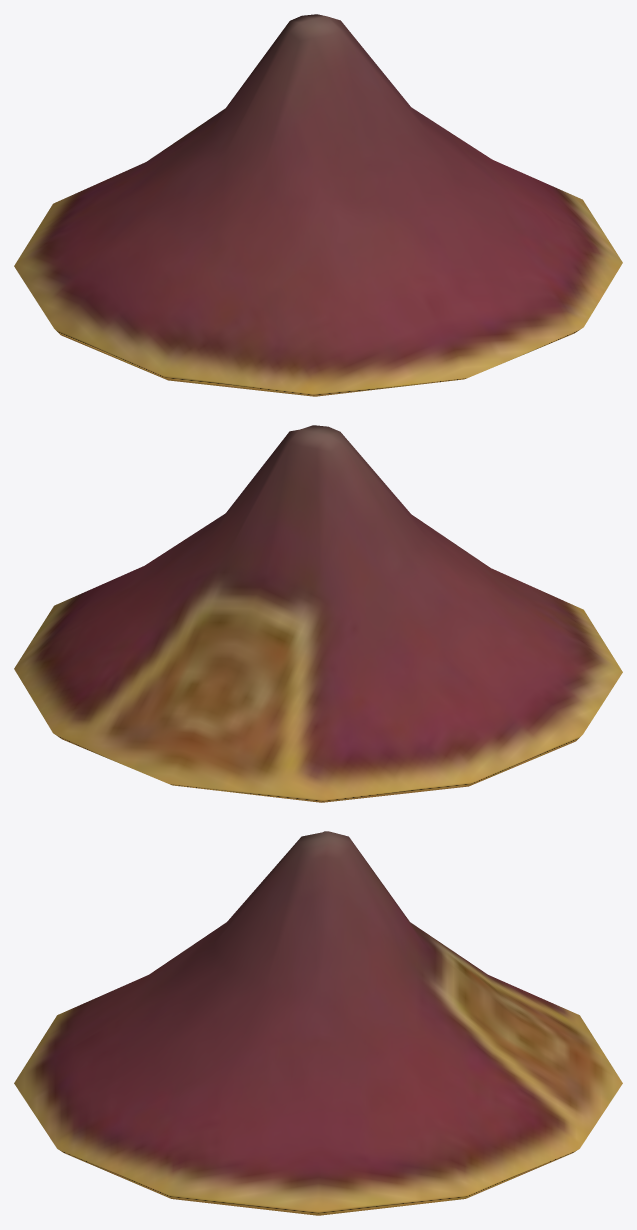
Rendered from wuxianHatR.glb.
3 views of the same model, one above another, from view 1: azimuth 30°, elevation 25°; view 2: azimuth 150°, elevation 25°; view 3: azimuth 270°, elevation 25° (orthographic).
Visible parts, largest first — view 1: wuxianHatR; view 2: wuxianHatR; view 3: wuxianHatR.
Part boxes in pixels (<box>): wuxianHatR: <box>14,14,622,396</box>; wuxianHatR: <box>14,425,622,802</box>; wuxianHatR: <box>14,831,622,1215</box>.
Size of the model in its own units: 0.6318 by 0.2853 by 0.6253.
1 material, 1 textured.
